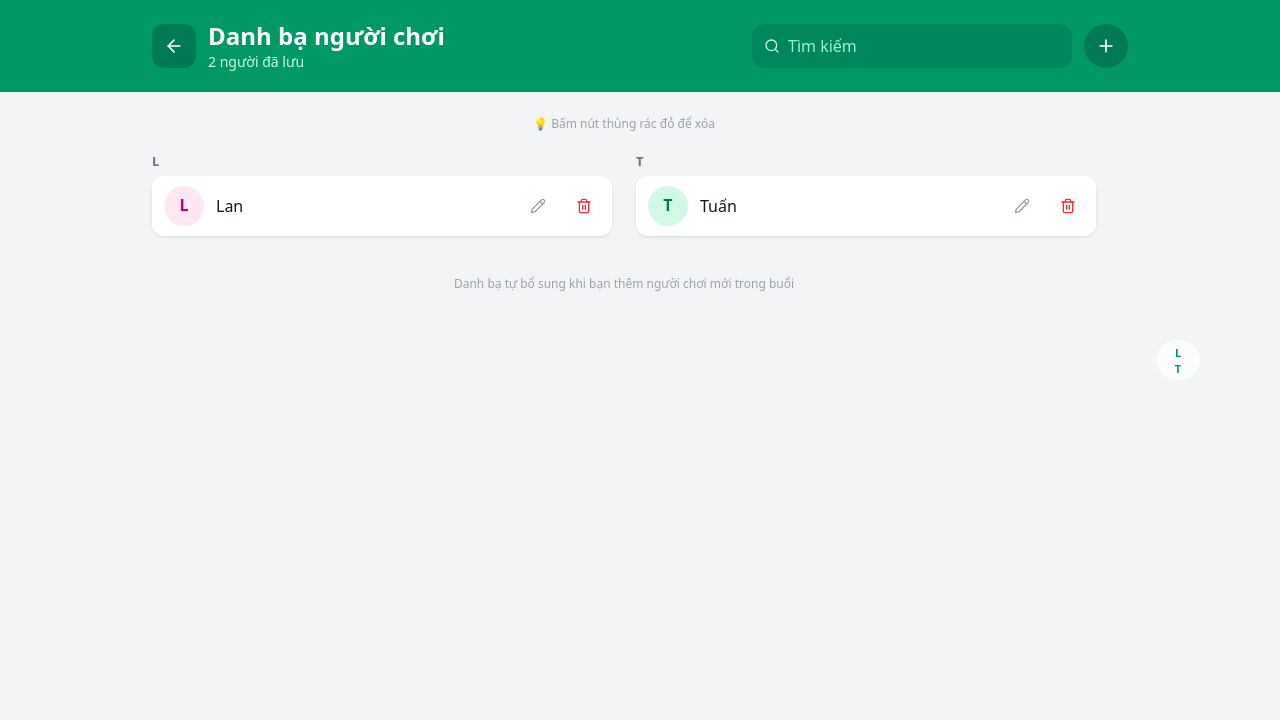
Scenario: blocks case-insensitive duplicates when adding
Click the button named "Thêm vào danh bạ". click: {"x": 1106, "y": 46}
box: [1084, 24, 1128, 68]
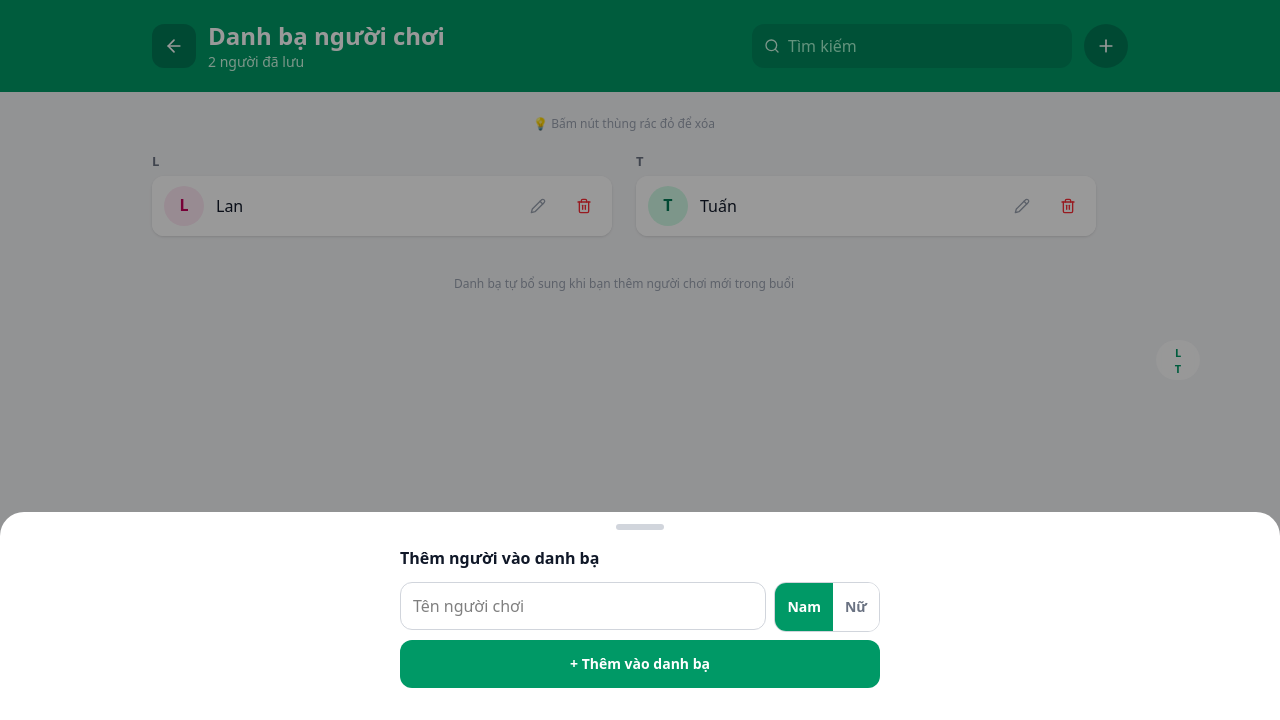
Type "tuấn" into the field with placeholder "Tên người chơi". click: {"x": 583, "y": 606}
box: [400, 582, 766, 630]
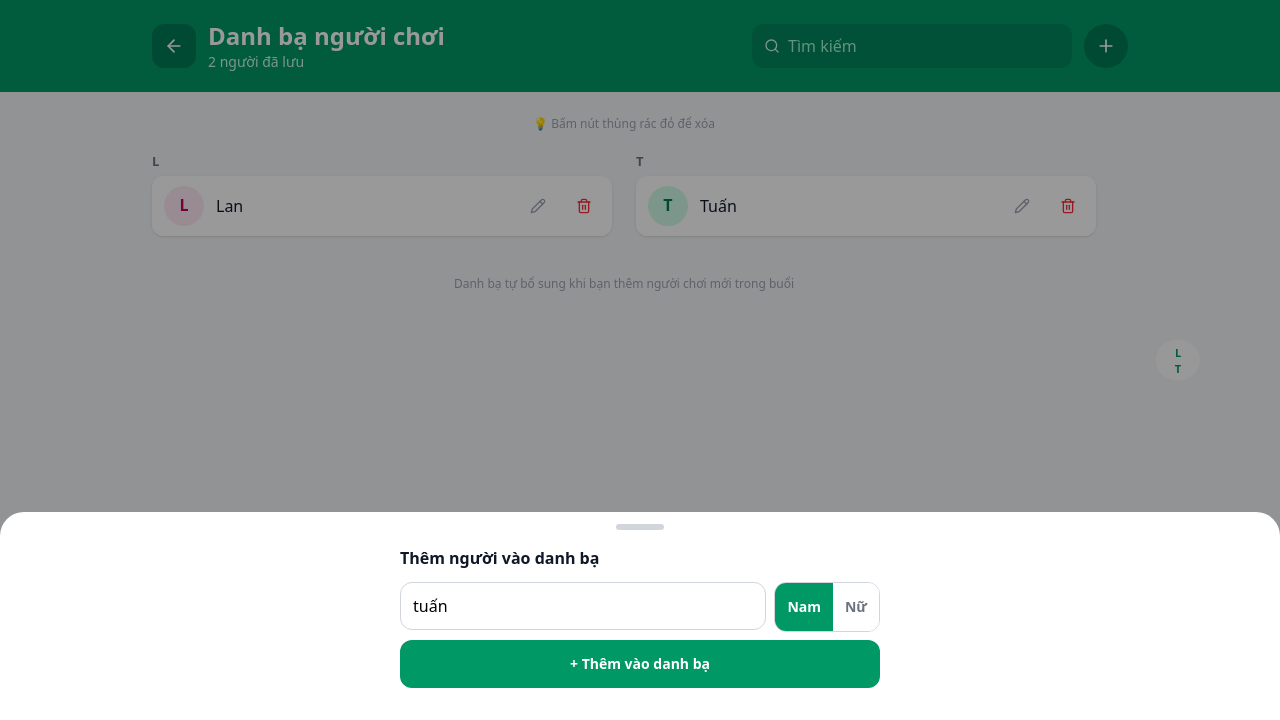
Click the button "+ Thêm vào danh bạ". click: {"x": 640, "y": 664}
box: [400, 640, 880, 688]
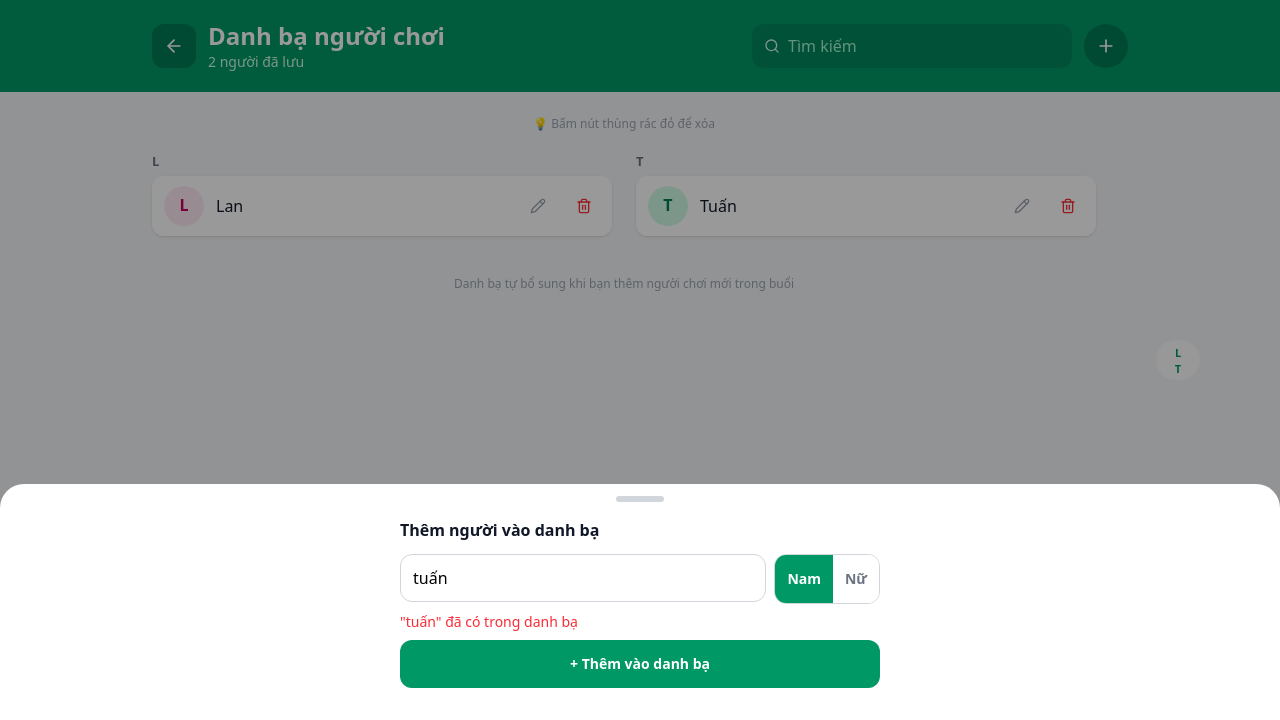
Expected: the text "2 người đã lưu" is shown, [208, 52, 304, 71]
Result: the text "\"tuấn\" đã có trong danh bạ" is shown at [400, 612, 578, 631]
